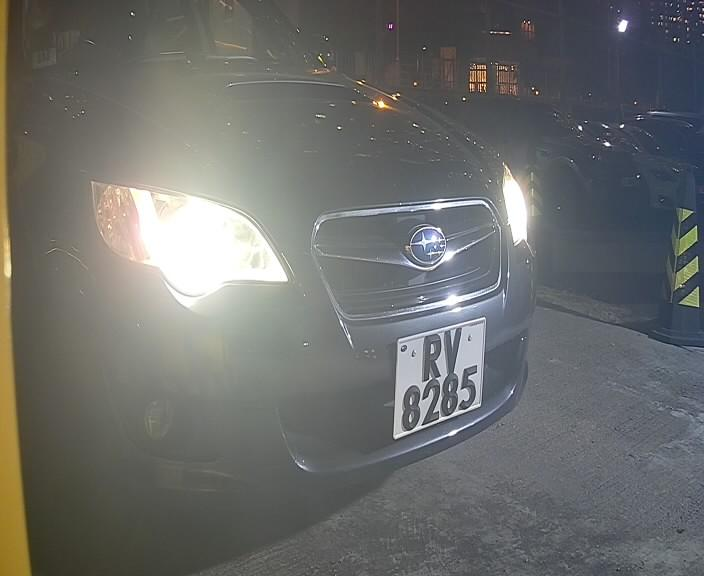Car: (1, 16, 623, 523)
License Plate: (384, 309, 488, 445)
